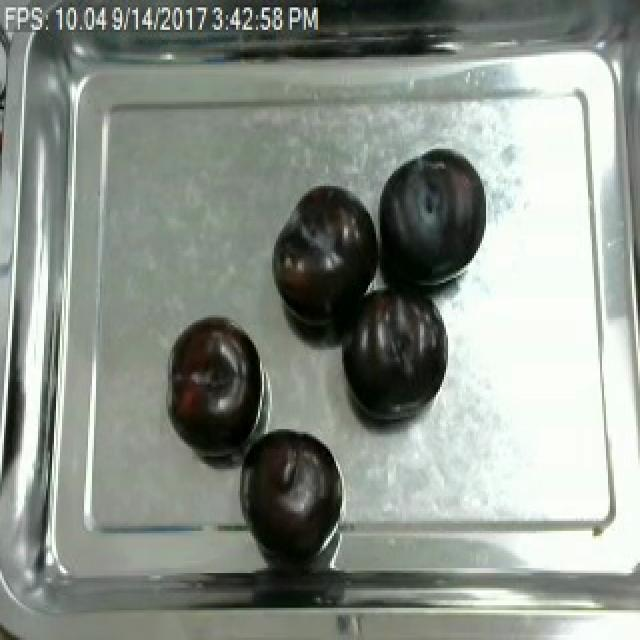Fruit: (372, 144, 490, 295), (268, 176, 380, 333), (336, 275, 450, 427), (164, 313, 258, 454), (240, 424, 340, 553)
